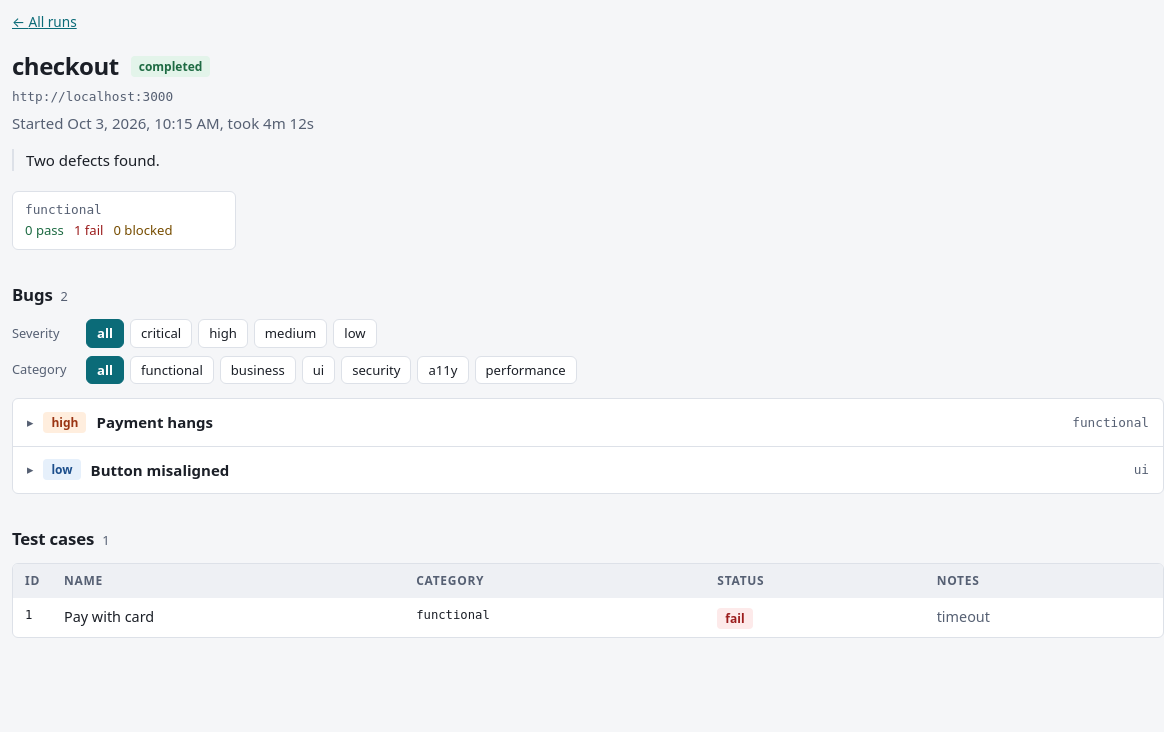
Test: RunDetail › filters by category
Check: the text "Payment hangs" is shown, box [96, 412, 213, 432]
Step 1. Click the button "ui" → (318, 370), box [302, 356, 335, 384]
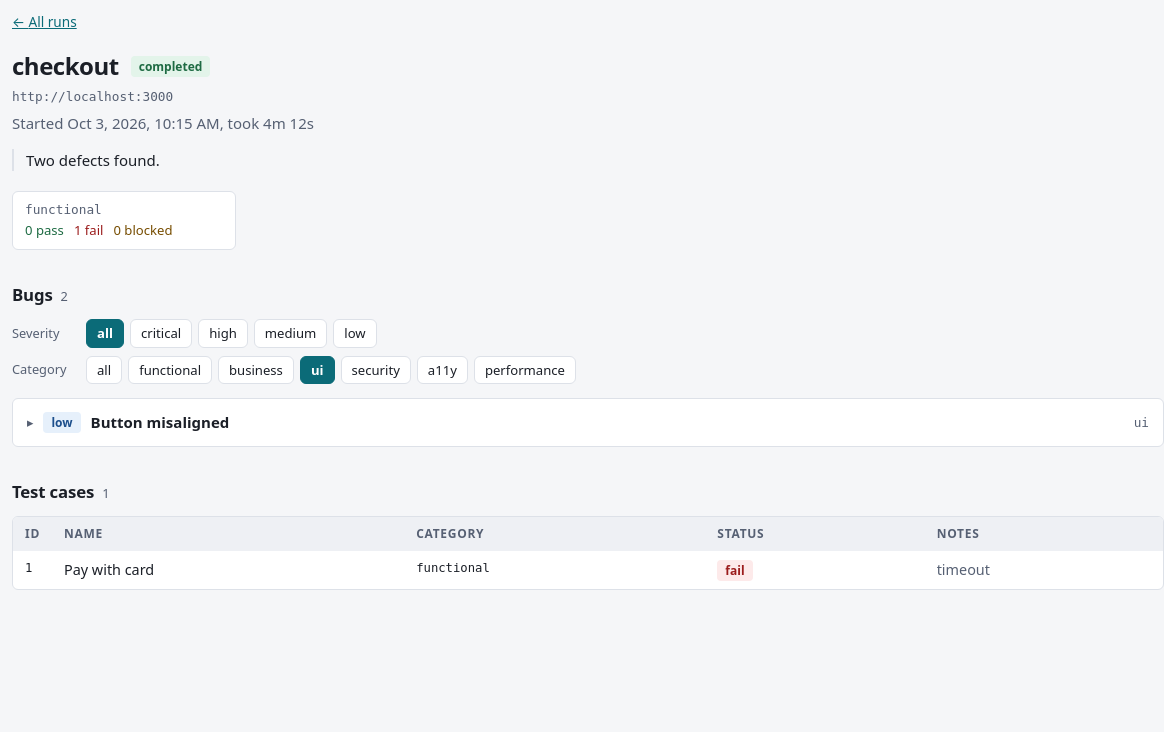
Check: the text "Button misaligned" is shown, box [91, 412, 229, 432]
Check: the heading "Payment hangs" is gone
